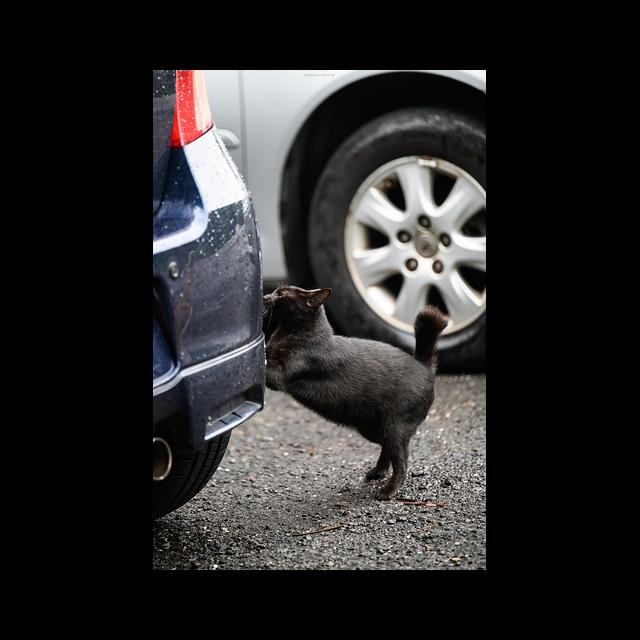animals: (264, 285, 449, 493)
